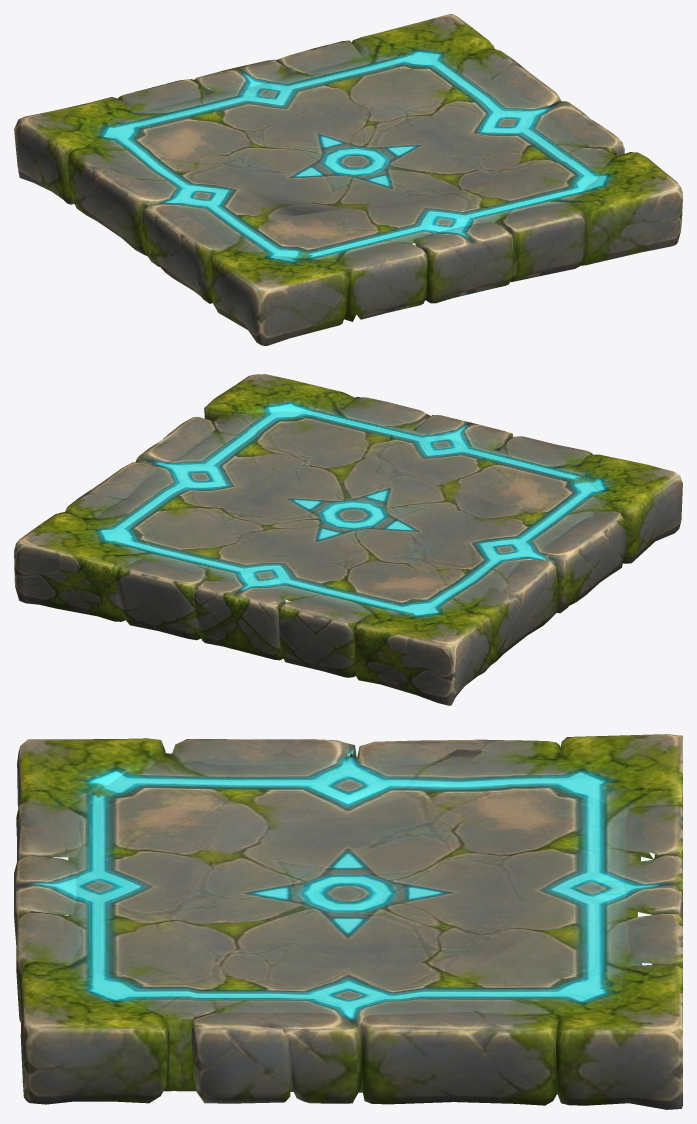
File: losa_runica.glb
The picture shows the model from 3 angles, top to bottom: view 1: azimuth 30°, elevation 25°; view 2: azimuth 150°, elevation 25°; view 3: azimuth 270°, elevation 25°; orthographic projection. The views are drawn at different scales.
Visible parts, largest first — view 1: losa_runica_malla; view 2: losa_runica_malla; view 3: losa_runica_malla.
Boxes of the visible parts, x1=… form: losa_runica_malla: x1=14, y1=14, x2=682, y2=345; losa_runica_malla: x1=14, y1=374, x2=682, y2=705; losa_runica_malla: x1=14, y1=734, x2=682, y2=1109.
Size of the model in its own units: 0.4677 by 0.0614 by 0.4392.
Materials: 1 (1 with a texture image).
